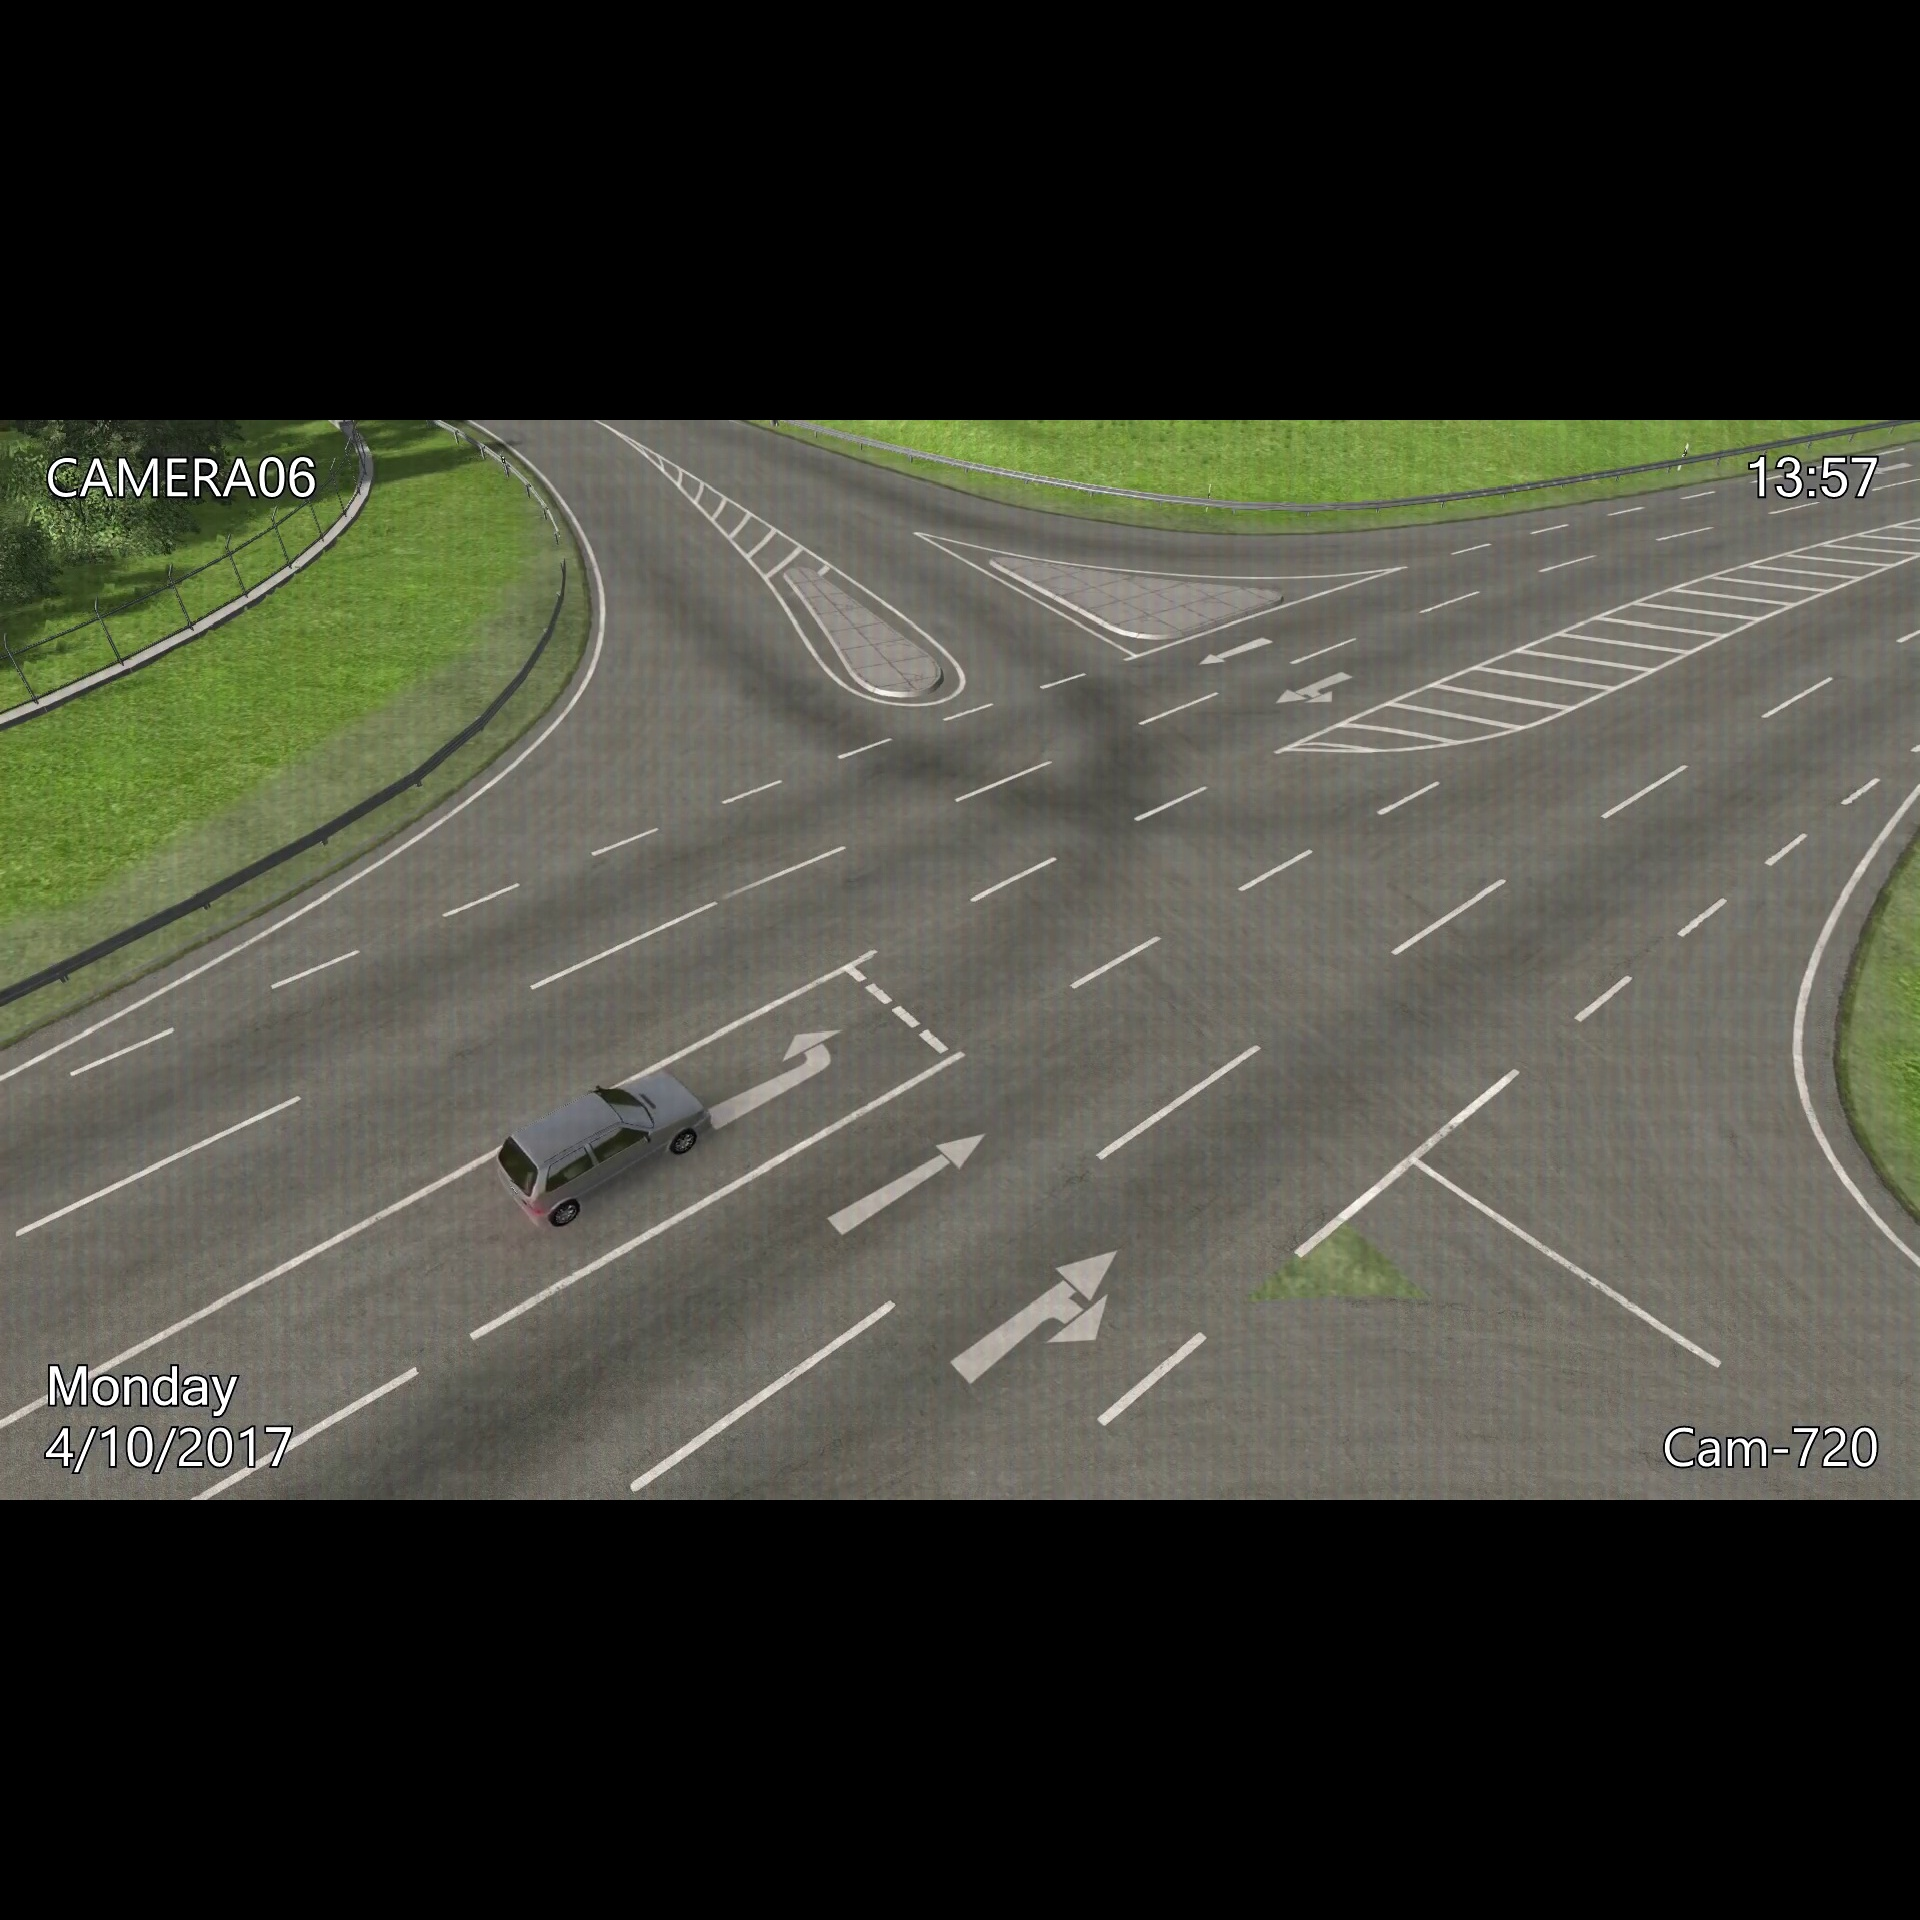vehicle: (492, 1064, 723, 1234)
